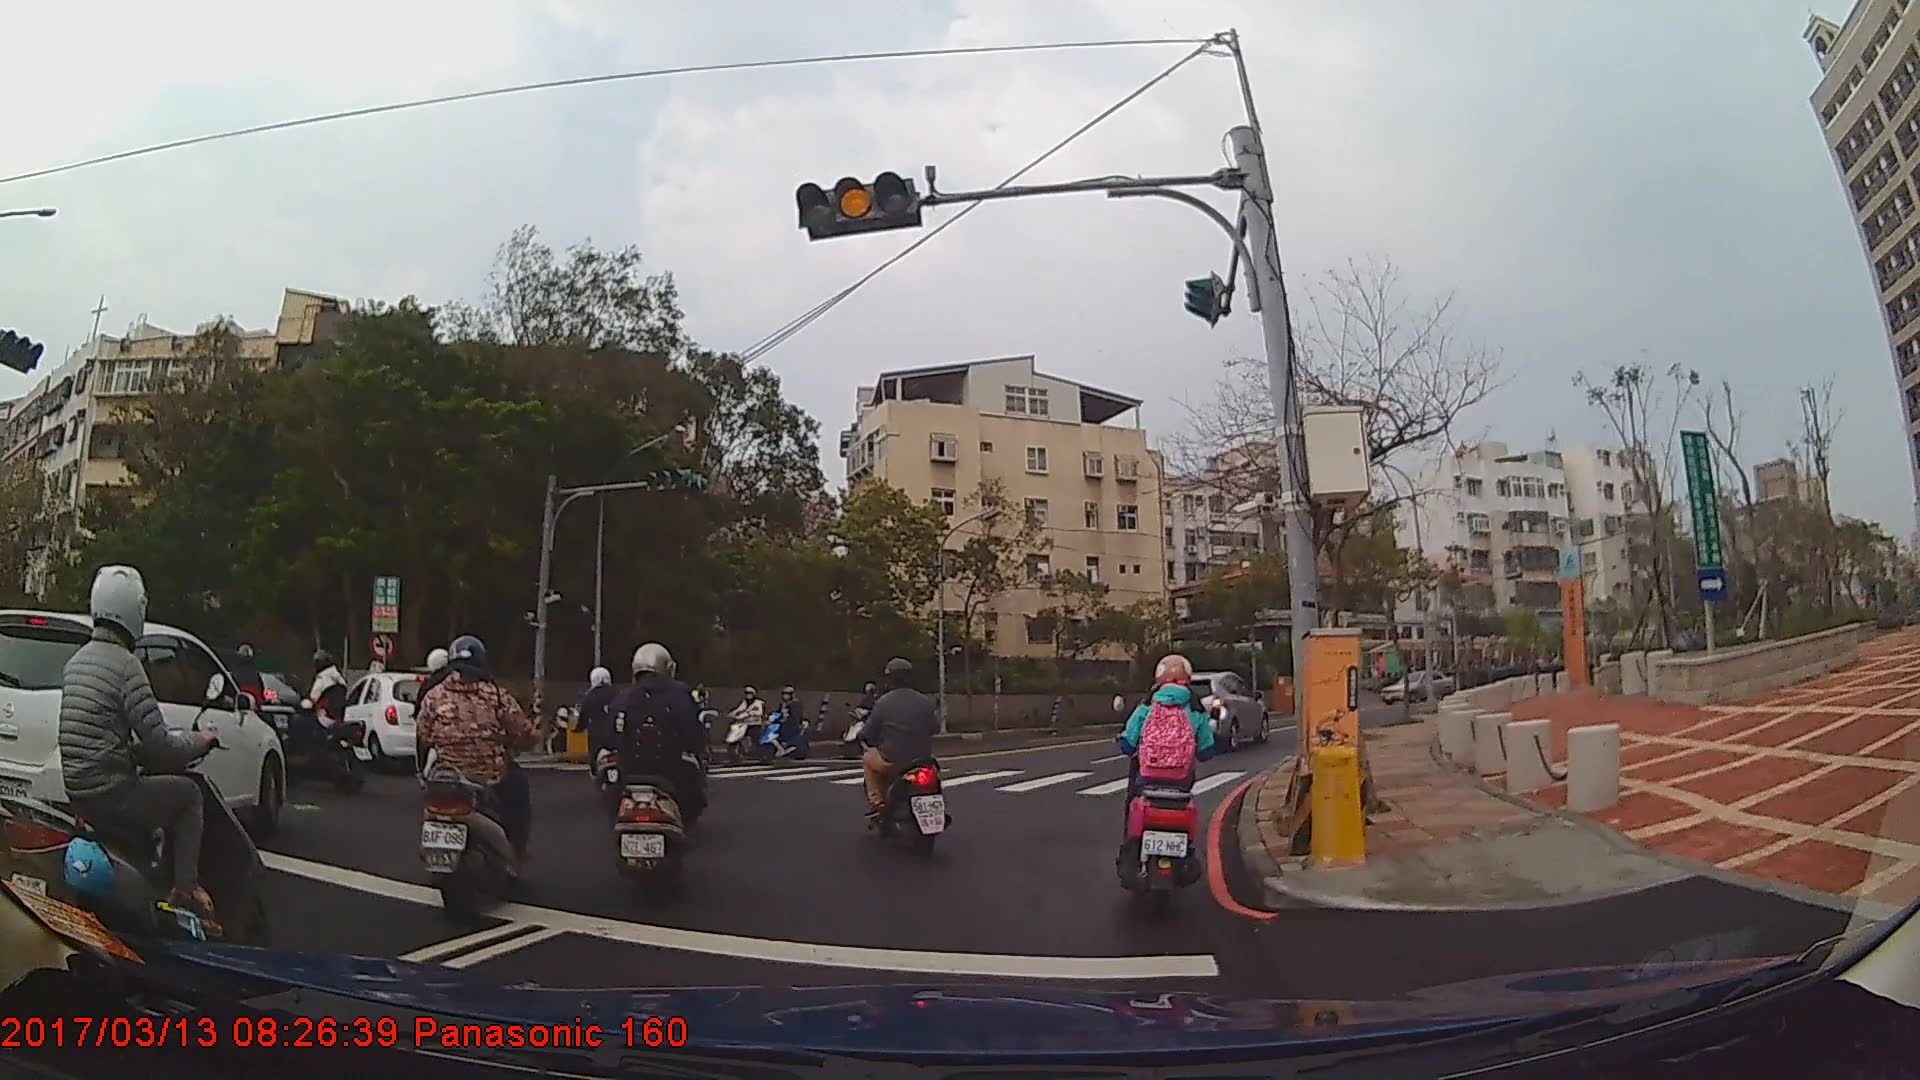rider: (5, 564, 266, 999), (414, 636, 537, 921), (600, 643, 710, 901), (1123, 653, 1225, 910), (854, 653, 947, 855), (562, 665, 643, 809), (287, 649, 356, 790), (208, 643, 272, 779), (763, 686, 812, 764), (729, 683, 771, 762)
vehicle: (0, 610, 285, 856), (322, 671, 454, 768), (1145, 672, 1269, 754), (1382, 667, 1452, 704)
